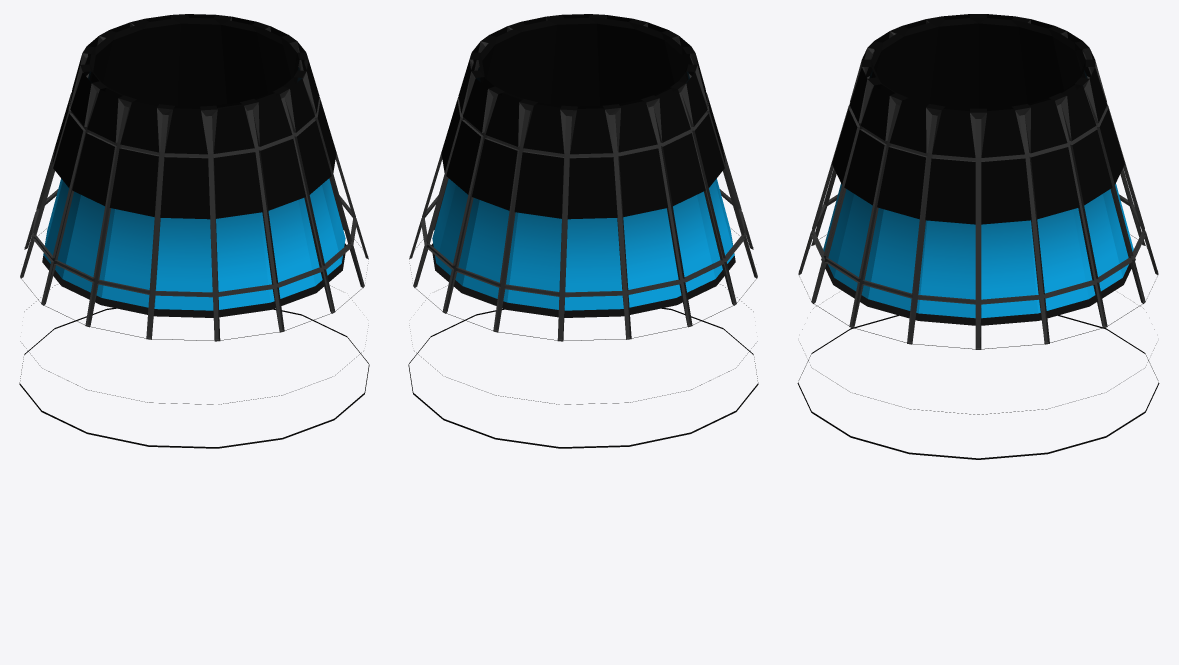
File: PenSheQi_WeiPen_2X2X5_on1.FBX
3 views of the same model, side by side, from view 1: azimuth 30°, elevation 25°; view 2: azimuth 150°, elevation 25°; view 3: azimuth 270°, elevation 25° (orthographic). The views are drawn at different scales.
Parts seen in each view (by area): view 1: Box002; view 2: Box002; view 3: Box002.
Part boxes in pixels (box(x1,y1,x2,y2)): Box002: box(19, 14, 369, 448); Box002: box(408, 14, 758, 448); Box002: box(797, 14, 1159, 459).
Size of the model in its own units: 3.1 by 4.92 by 3.1.
